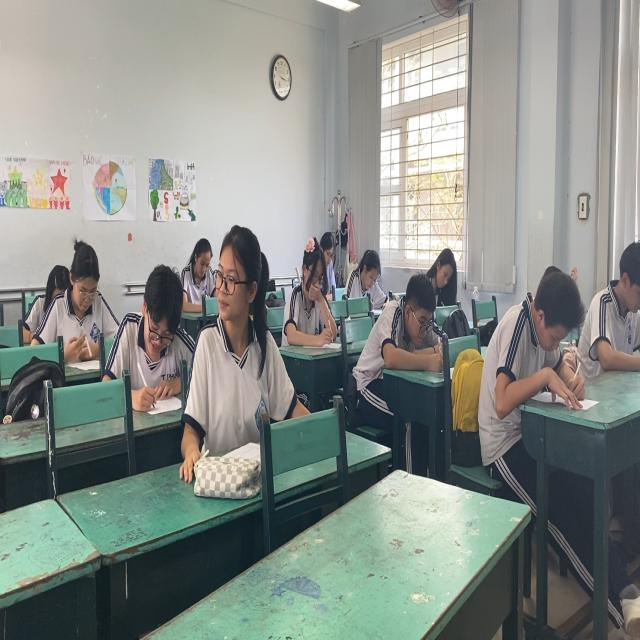cheating: (208, 229, 280, 427)
not_cheating: (111, 271, 197, 402), (492, 268, 582, 389), (26, 233, 110, 362), (280, 212, 341, 358), (372, 282, 436, 361), (331, 230, 387, 305), (417, 233, 465, 306), (177, 233, 218, 313)
